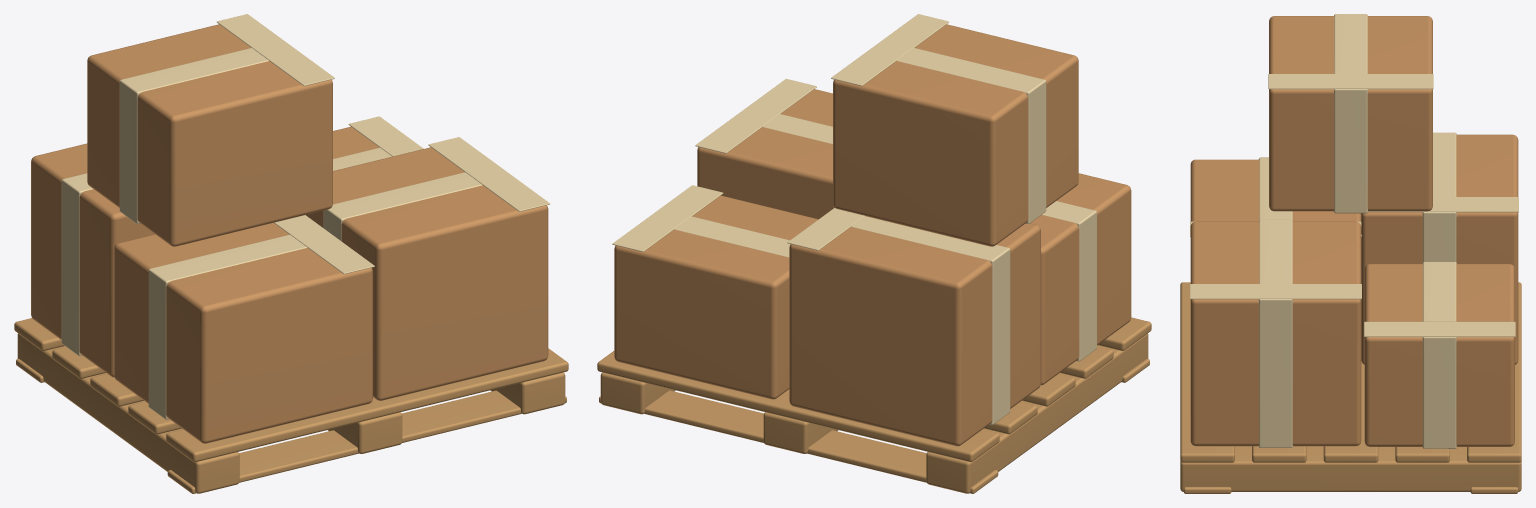
Rendered from street_deliveryboxes.glb.
The picture shows the model from 3 angles, left to right: view 1: azimuth 30°, elevation 25°; view 2: azimuth 150°, elevation 25°; view 3: azimuth 270°, elevation 25°; orthographic projection. The views are drawn at different scales.
Visible parts, largest first — view 1: BoxA, BoxD, BoxB, BoxC, TopBoard0, Block-0.52, BotBoard-0.42, BoxATape, BoxDTape, BoxCTape, BoxBTape, BoxBTapeTop (+11 smaller); view 2: BoxC, BoxD, BoxE, BoxA, BoxB, Block-0.52, BotBoard0.42, TopBoard4, BoxCTape, BoxDTape, BoxATape, BoxBTapeTop (+11 smaller); view 3: BoxB, BoxD, BoxE, BoxC, Block0.52, BoxBTape, BoxDTape, BoxETape, BoxA, BoxCTape, TopBoard0, BoxBTapeTop (+8 smaller).
Boxes of the visible parts, x1=… form: BoxA: x1=114, y1=223, x2=372, y2=443; BoxD: x1=87, y1=24, x2=332, y2=246; BoxB: x1=306, y1=147, x2=548, y2=400; BoxC: x1=31, y1=143, x2=154, y2=377; TopBoard0: x1=166, y1=348, x2=568, y2=462; Block-0.52: x1=17, y1=333, x2=239, y2=493; BotBoard-0.42: x1=167, y1=390, x2=566, y2=493; BoxATape: x1=148, y1=234, x2=307, y2=419; BoxDTape: x1=119, y1=48, x2=268, y2=224; BoxCTape: x1=61, y1=173, x2=92, y2=355; BoxBTape: x1=323, y1=172, x2=482, y2=241; BoxBTapeTop: x1=428, y1=137, x2=550, y2=211; BoxC: x1=789, y1=223, x2=1040, y2=446; BoxD: x1=833, y1=24, x2=1078, y2=246; BoxE: x1=614, y1=195, x2=818, y2=399; BoxA: x1=1030, y1=173, x2=1131, y2=385; BoxB: x1=697, y1=89, x2=834, y2=219; Block-0.52: x1=926, y1=333, x2=1148, y2=493; BotBoard0.42: x1=599, y1=390, x2=998, y2=493; TopBoard4: x1=597, y1=351, x2=999, y2=462; BoxCTape: x1=851, y1=216, x2=1010, y2=424; BoxDTape: x1=897, y1=48, x2=1046, y2=223; BoxATape: x1=1042, y1=201, x2=1096, y2=361; BoxBTapeTop: x1=695, y1=78, x2=816, y2=153; BoxB: x1=1190, y1=221, x2=1361, y2=446; BoxD: x1=1269, y1=16, x2=1432, y2=211; BoxE: x1=1364, y1=264, x2=1514, y2=446; BoxC: x1=1361, y1=134, x2=1518, y2=364; Block0.52: x1=1180, y1=446, x2=1521, y2=491; BoxBTape: x1=1258, y1=219, x2=1292, y2=447; BoxDTape: x1=1334, y1=14, x2=1367, y2=213; BoxETape: x1=1422, y1=262, x2=1456, y2=448; BoxA: x1=1190, y1=159, x2=1361, y2=221; BoxCTape: x1=1422, y1=132, x2=1456, y2=262; TopBoard0: x1=1180, y1=282, x2=1234, y2=462; BoxBTapeTop: x1=1190, y1=284, x2=1361, y2=299.
Bounding box in the file's own units: 1.2 × 1.03 × 1.
